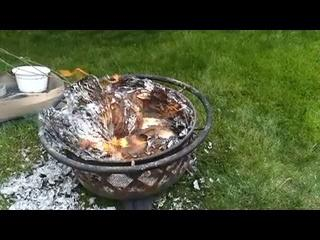Fire: (99, 132, 146, 150)
